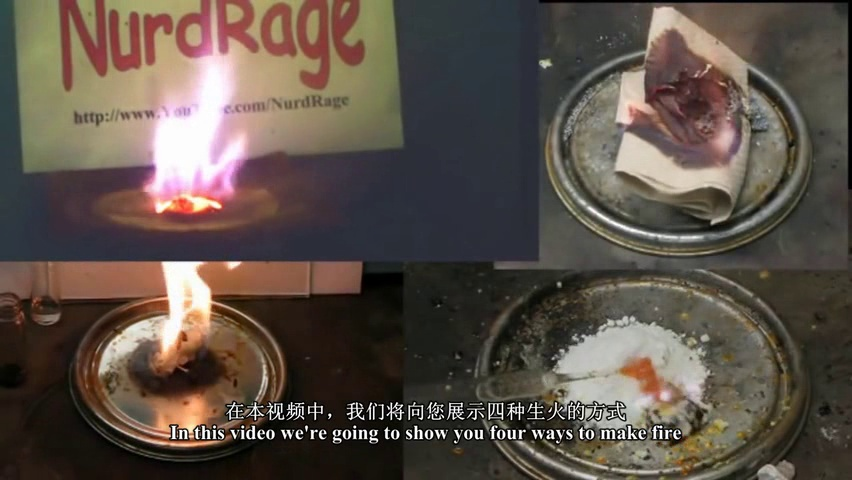fire: (128, 35, 253, 209), (142, 244, 231, 380)
